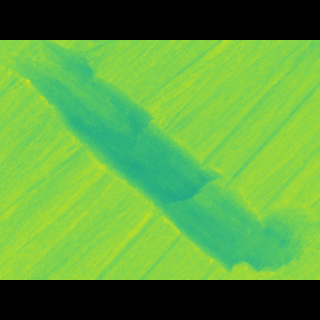Loch: (5, 69, 308, 246)
